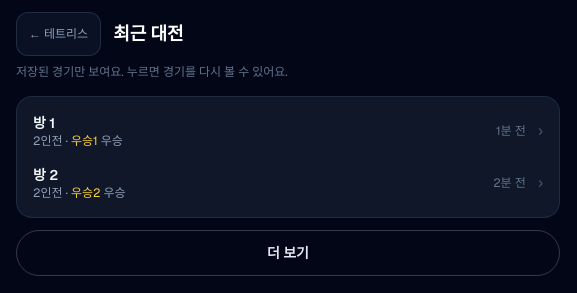
Test: 대전 입구 (DESIGN §19) › 전체 목록: 더 보기로 다음 커서, 겹친 경기는 한 번, 마지막이면 버튼이 사라진다
Expected: the link "방 2 2인전 · 우승2 우승 2분 전 ›" is shown, [25, 157, 551, 209]
What coordinates should you click on to do the following:
click the button "더 보기"
I would click on:
 (288, 253)
Its box is [16, 230, 560, 276].
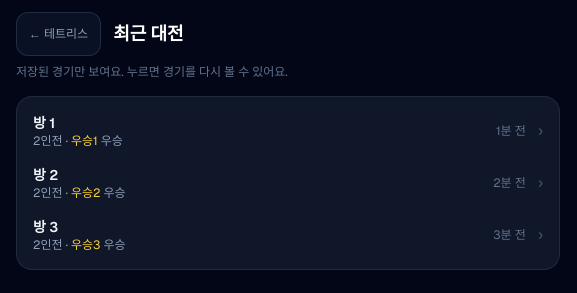
Now the link "방 3 2인전 · 우승3 우승 3분 전 ›" is shown, box [25, 209, 551, 261]
Now the button "더 보기" is gone
